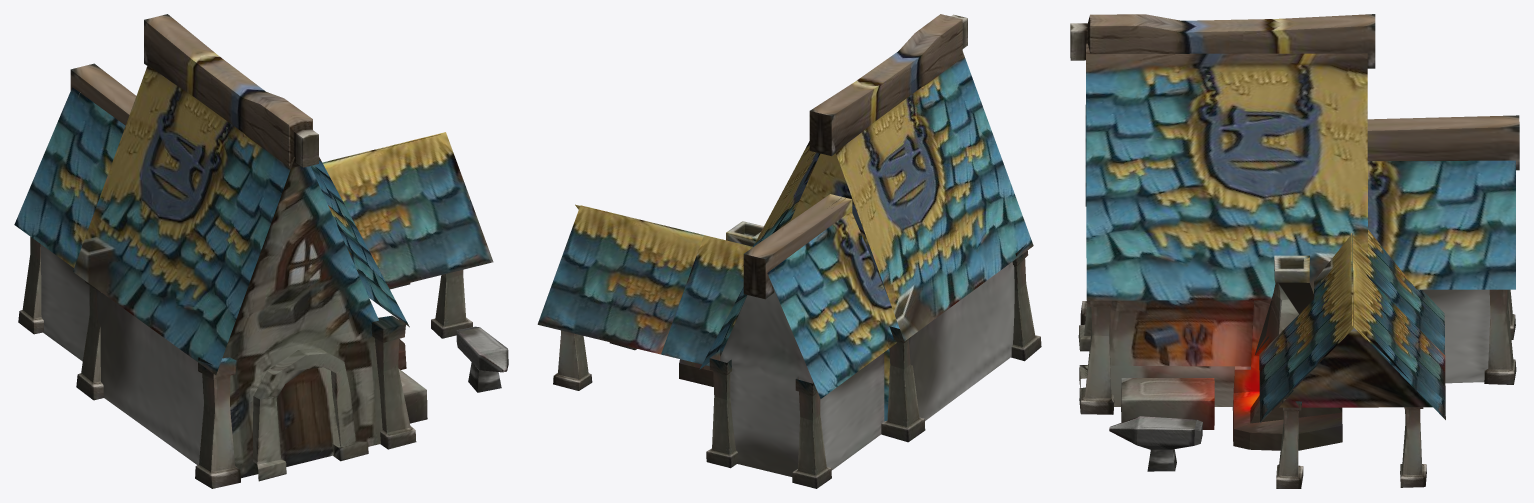
The model's file is forge.glb.
3 renders of one model, left to right at view 1: azimuth 30°, elevation 25°; view 2: azimuth 150°, elevation 25°; view 3: azimuth 270°, elevation 25°, orthographic. The views are drawn at different scales.
Parts seen in each view (by area): view 1: smith; view 2: smith; view 3: smith.
Boxes of the visible parts, x1,y1,x2,y2 form: smith: (14, 14, 508, 488); smith: (537, 14, 1041, 488); smith: (1070, 14, 1519, 488).
Bounding box in the file's own units: 2.38 × 2.11 × 2.52.
Materials: 1 (1 with a texture image).
